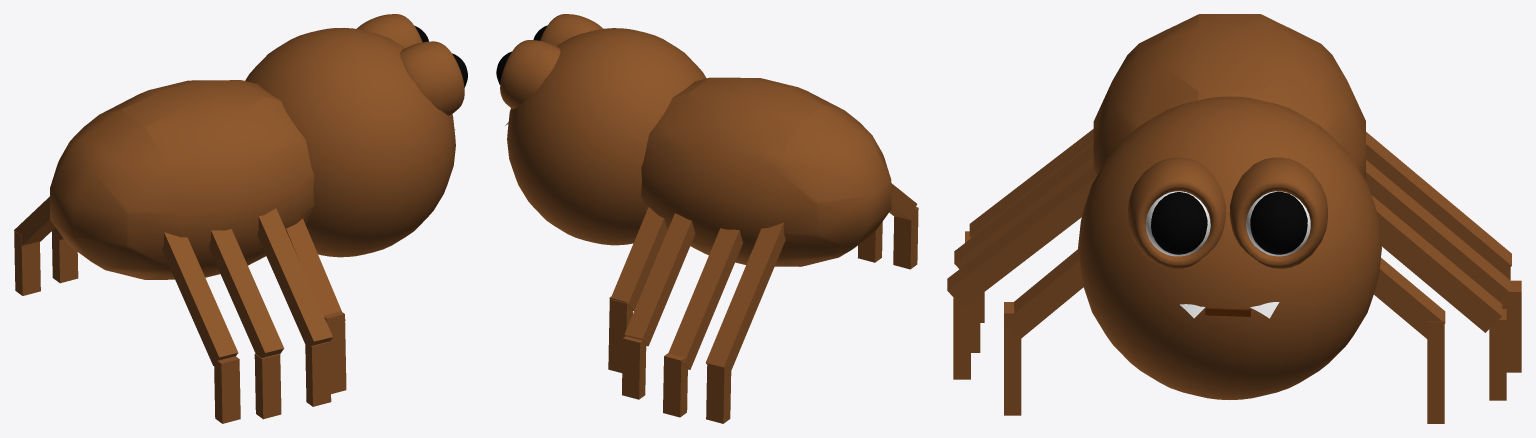
The model's file is spinder.fbx.
3 renders of one model, left to right at view 1: azimuth 30°, elevation 25°; view 2: azimuth 150°, elevation 25°; view 3: azimuth 270°, elevation 25°, orthographic. The views are drawn at different scales.
Parts seen in each view (by area): view 1: Mball, Sphere, Cube.008, Cube.010, Cube.011, SurfTorus, Cube.009, Cube.015, Cube.014, Cube.013, Cube.007, Cube.012 (+3 smaller); view 2: Mball, Sphere, Cube.003, Cube.002, Cube.001, SurfTorus.001, Cube, Cube.006, Cube.005, Cube.007, Cube.004, Cube.015 (+3 smaller); view 3: Sphere, Mball, Cube.008, SurfTorus, SurfTorus.001, Cube.001, Cube.002, Cube.003, Cube.010, Cube.009, SurfSphere.001, SurfSphere (+10 smaller).
Part boxes in pixels (x1=…): Mball: x1=50, y1=80, x2=314, y2=279; Sphere: x1=245, y1=28, x2=455, y2=257; Cube.008: x1=257, y1=208, x2=332, y2=349; Cube.010: x1=209, y1=229, x2=284, y2=357; Cube.011: x1=162, y1=232, x2=238, y2=365; SurfTorus: x1=400, y1=41, x2=464, y2=115; Cube.009: x1=286, y1=218, x2=345, y2=320; Cube.015: x1=214, y1=356, x2=240, y2=423; Cube.014: x1=254, y1=353, x2=281, y2=419; Cube.013: x1=305, y1=341, x2=331, y2=406; Cube.007: x1=14, y1=230, x2=40, y2=295; Cube.012: x1=324, y1=311, x2=346, y2=393; Mball: x1=641, y1=77, x2=891, y2=266; Sphere: x1=507, y1=28, x2=706, y2=245; Cube.003: x1=705, y1=222, x2=785, y2=369; Cube.002: x1=668, y1=228, x2=742, y2=369; Cube.001: x1=624, y1=213, x2=695, y2=346; SurfTorus.001: x1=500, y1=40, x2=560, y2=109; Cube: x1=610, y1=207, x2=667, y2=310; Cube.006: x1=663, y1=353, x2=687, y2=417; Cube.005: x1=622, y1=336, x2=646, y2=399; Cube.007: x1=706, y1=362, x2=731, y2=423; Cube.004: x1=608, y1=296, x2=632, y2=372; Cube.015: x1=893, y1=207, x2=918, y2=269; Sphere: x1=1078, y1=96, x2=1381, y2=399; Mball: x1=1093, y1=14, x2=1365, y2=180; Cube.008: x1=947, y1=166, x2=1097, y2=307; SurfTorus: x1=1128, y1=157, x2=1226, y2=268; SurfTorus.001: x1=1229, y1=157, x2=1327, y2=268; Cube.001: x1=1371, y1=195, x2=1502, y2=332; Cube.002: x1=1366, y1=160, x2=1510, y2=303; Cube.003: x1=1366, y1=132, x2=1511, y2=273; Cube.010: x1=954, y1=144, x2=1093, y2=268; Cube.009: x1=1004, y1=249, x2=1083, y2=338; SurfSphere.001: x1=1250, y1=191, x2=1307, y2=254; SurfSphere: x1=1151, y1=192, x2=1207, y2=254.
Bounding box in the file's own units: 386 × 266 × 378.
